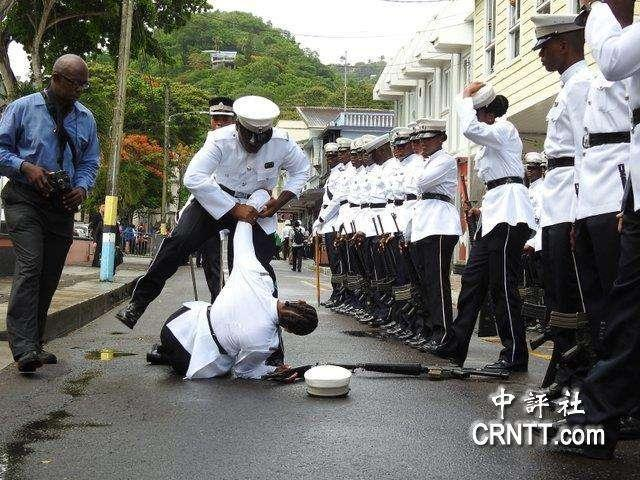Fall-Detected: (150, 184, 333, 389)
